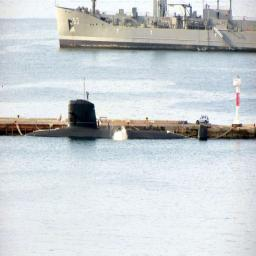submarine: (25, 99, 220, 139)
